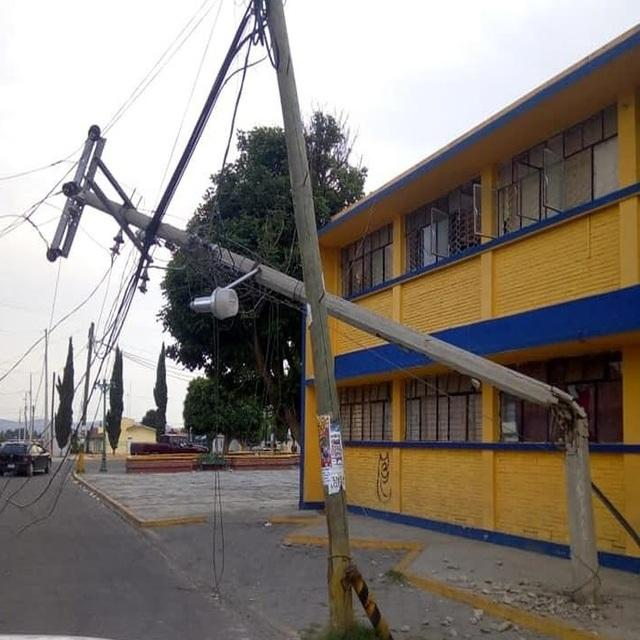Inclined Pole: (39, 119, 601, 599)
